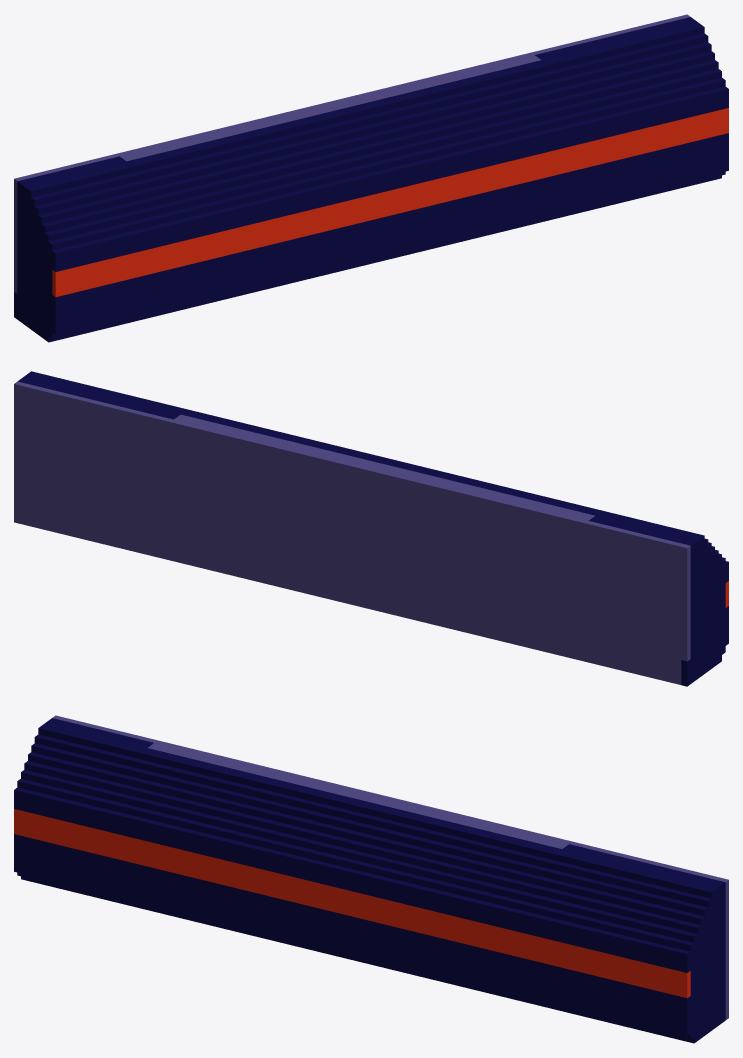
File: escena nave interior-0-navedelantera.obj
The picture shows the model from 3 angles, top to bottom: view 1: azimuth 30°, elevation 25°; view 2: azimuth 150°, elevation 25°; view 3: azimuth 330°, elevation 25°; orthographic projection.
Visible parts, largest first — view 1: navedelantera; view 2: navedelantera; view 3: navedelantera.
Boxes of the visible parts, bbox=[...] form: navedelantera: bbox=[14, 14, 728, 342]; navedelantera: bbox=[14, 371, 728, 686]; navedelantera: bbox=[14, 715, 728, 1043].
Size of the model in its own units: 11.2 by 2.2 by 1.2.
Materials: 1 (1 with a texture image).
